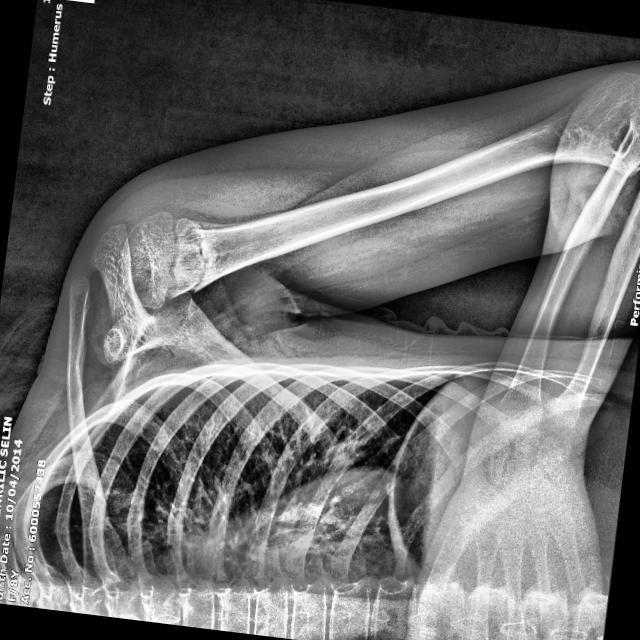Fracture: (175, 198, 237, 306)
